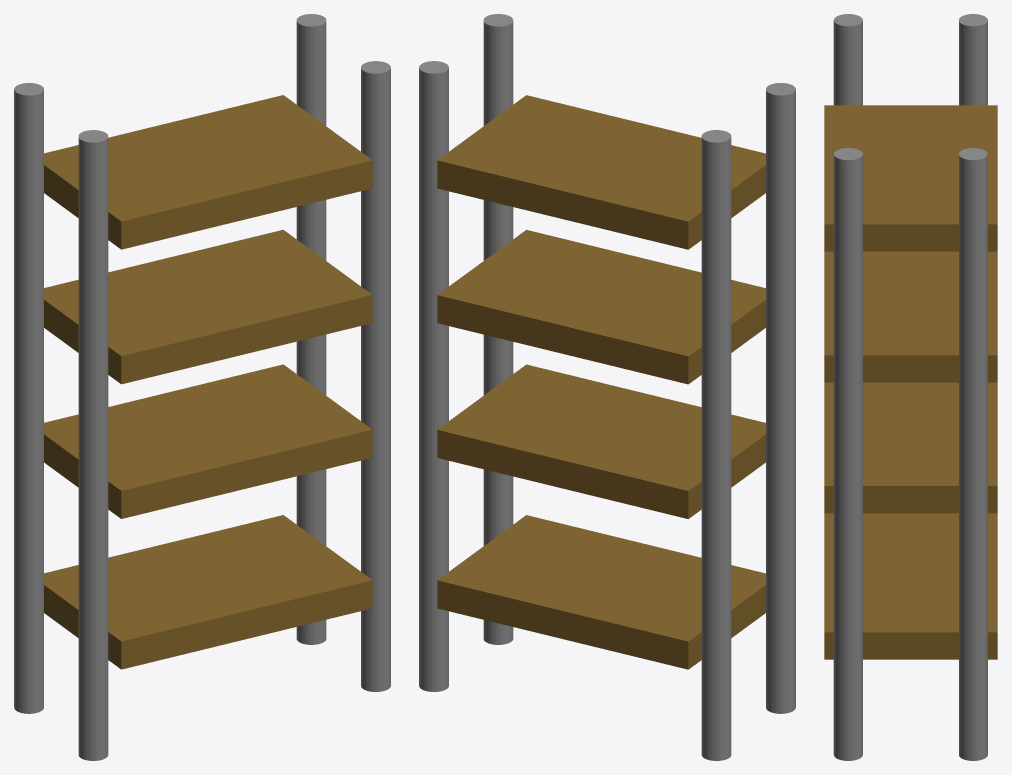
Rendered from estante.fbx.
The picture shows the model from 3 angles, left to right: view 1: azimuth 30°, elevation 25°; view 2: azimuth 150°, elevation 25°; view 3: azimuth 270°, elevation 25°; orthographic projection. The views are drawn at different scales.
Parts seen in each view (by area): view 1: Plane, Circle, Circle.001; view 2: Plane, Circle.001, Circle; view 3: Plane, Circle, Circle.001.
Boxes of the visible parts, box(x1,y1,x2,y2) form: Plane: box(44, 95, 372, 669); Circle: box(78, 61, 390, 760); Circle.001: box(14, 14, 326, 713); Plane: box(437, 95, 765, 669); Circle.001: box(419, 61, 731, 760); Circle: box(483, 14, 795, 713); Plane: box(824, 105, 997, 659); Circle: box(833, 14, 862, 760); Circle.001: box(959, 14, 987, 760).
Bounding box in the file's own units: 399 × 765 × 200.
